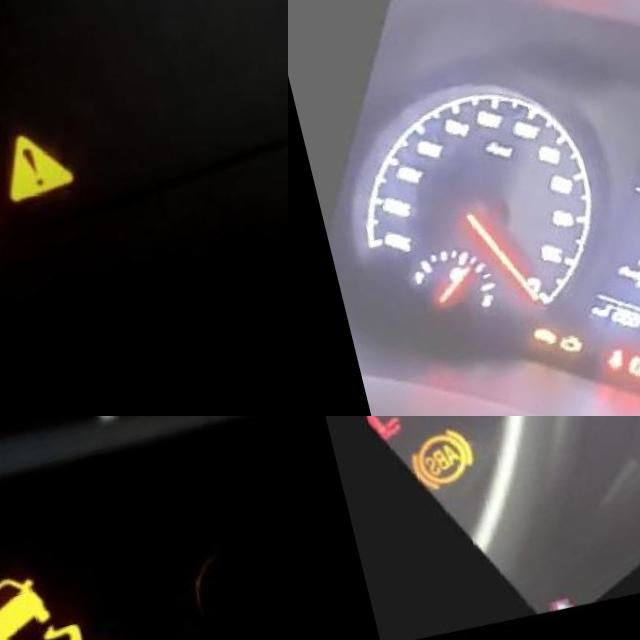Seat Belt: (581, 350, 608, 379)
